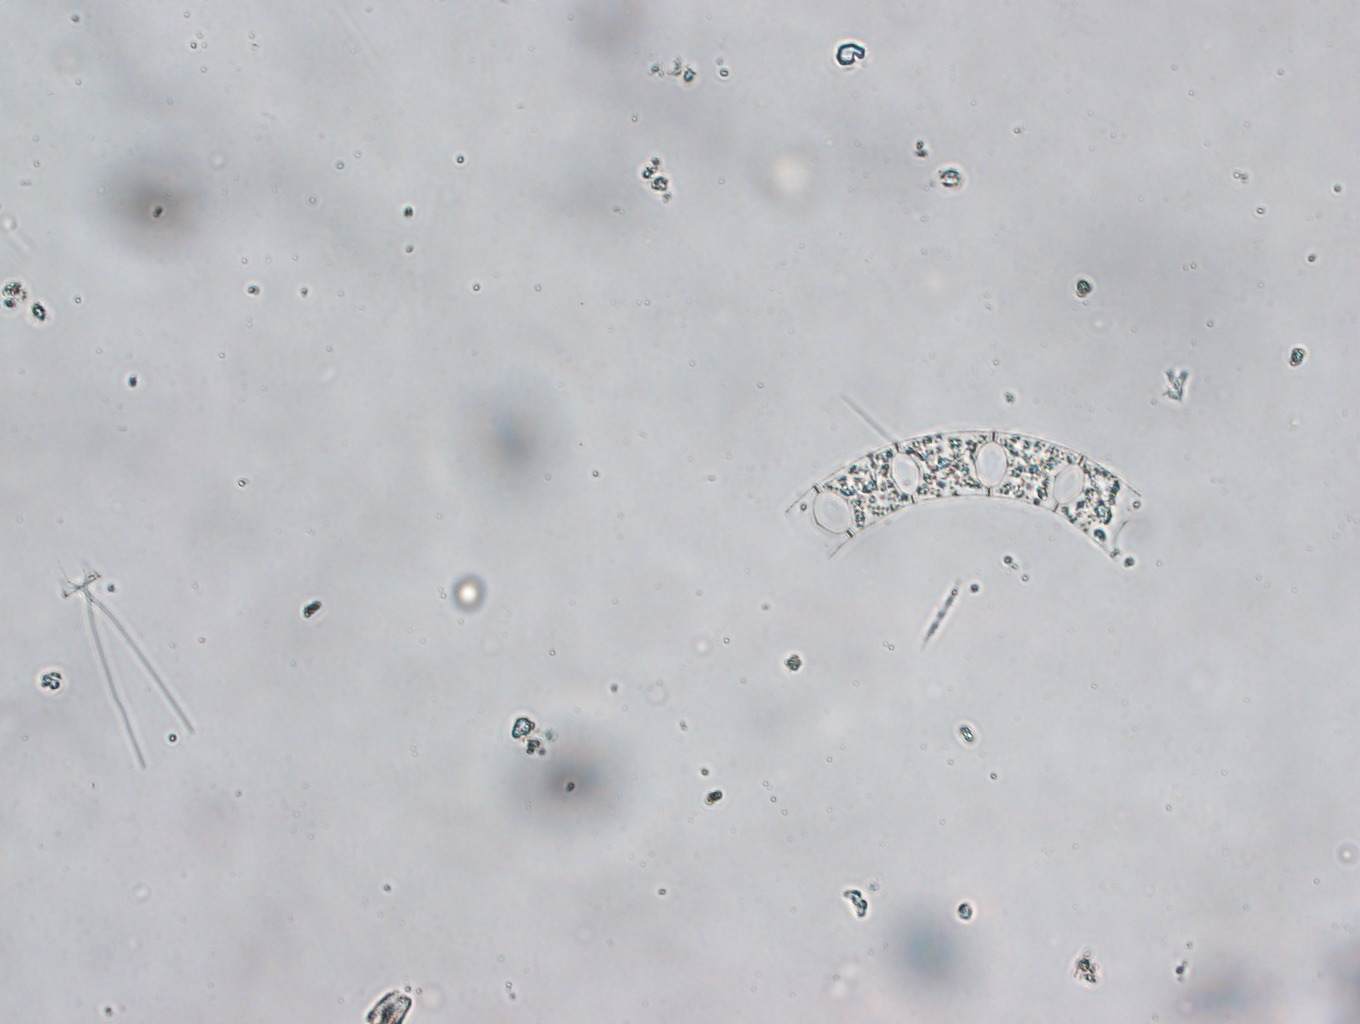eucampia: (785, 429, 1143, 561)
